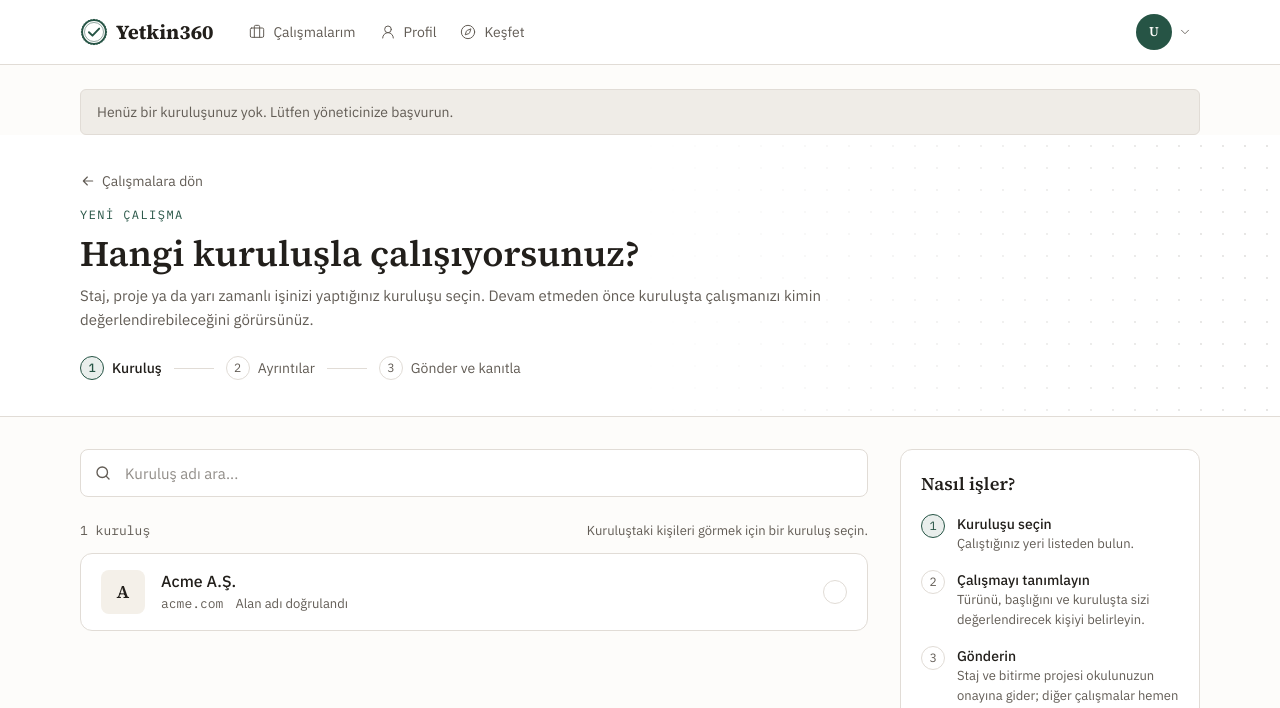
KurulusSecPage (/calismalar/kurulus-sec) › onaylayıcı yoksa kuruluş yöneticisine gideceğini söyler, devam yine mümkündür
Click the button "A Acme A.Ş. acme.com Alan adı doğrulandı": (123, 592) x1=81 y1=554 x2=867 y2=630
(page scrolled)
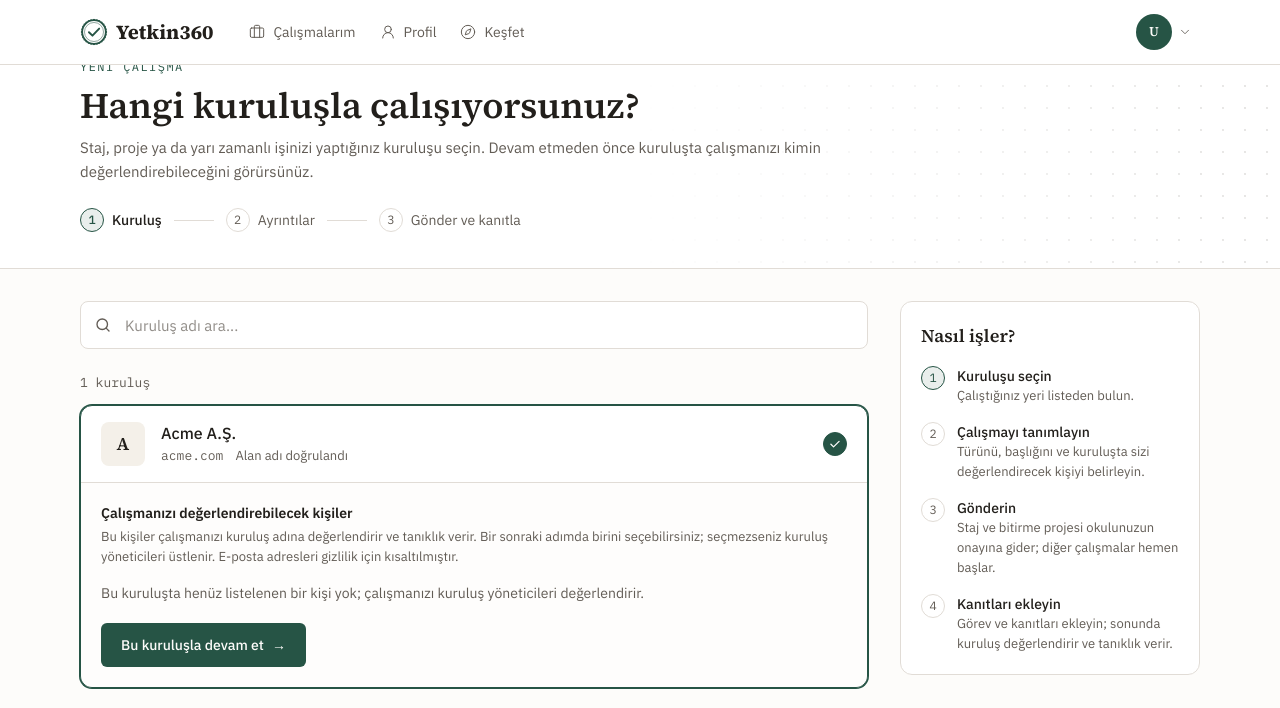
Now the text "Bu kuruluşta henüz listelenen bir kişi yok; çalışmanızı kuruluş yöneticileri değerlendirir." is shown, box x1=101 y1=584 x2=644 y2=602
Now the link "Bu kuruluşla devam et →" is shown, box x1=101 y1=622 x2=306 y2=666
